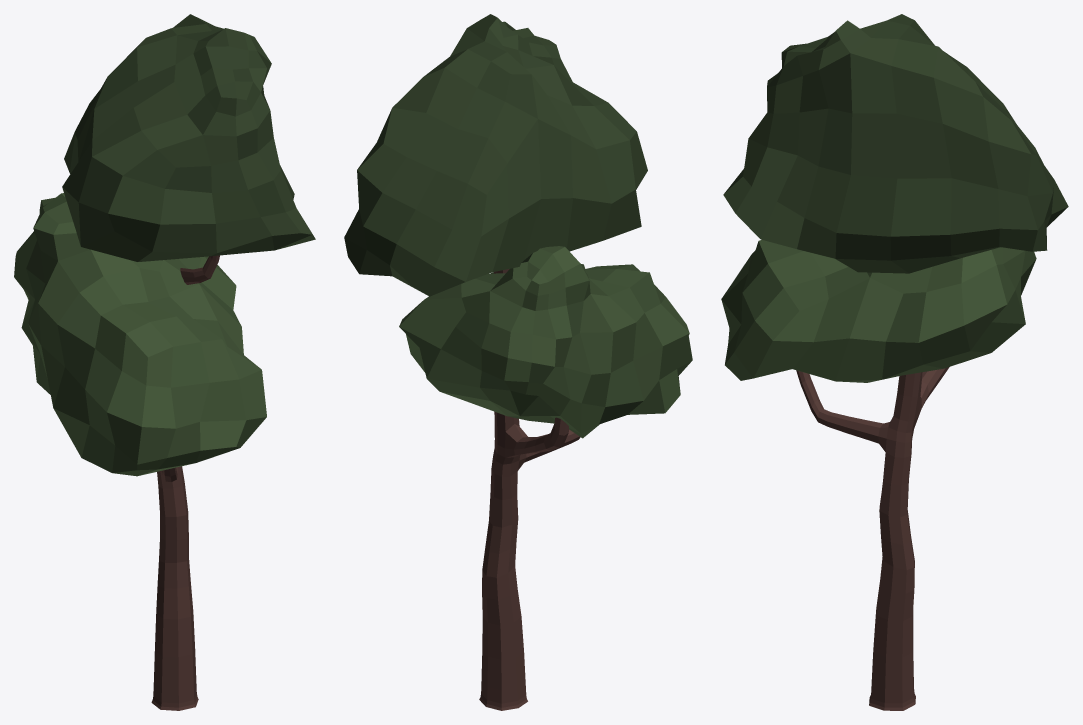
Rendered from CommonTree_3.glb.
The picture shows the model from 3 angles, left to right: view 1: azimuth 30°, elevation 25°; view 2: azimuth 150°, elevation 25°; view 3: azimuth 270°, elevation 25°; orthographic projection. The views are drawn at different scales.
Size of the model in its own units: 1.28 by 3.46 by 1.56.
